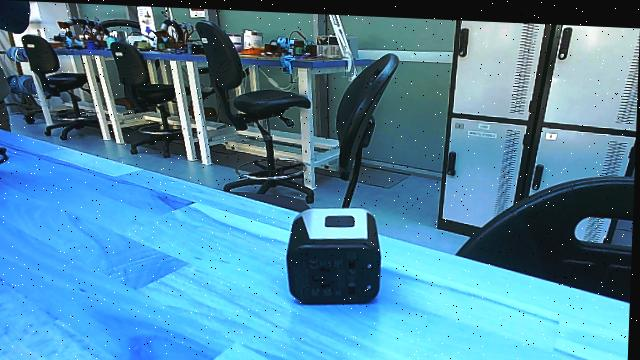adapter: (284, 196, 390, 312)
